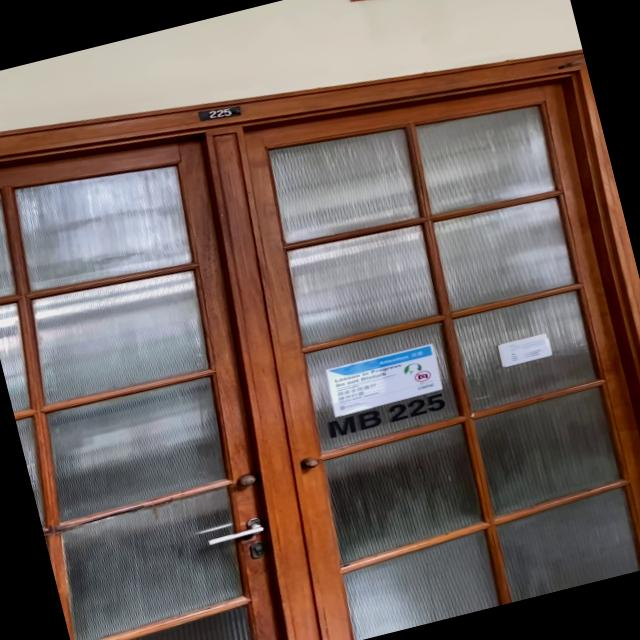room225: (194, 100, 244, 126)
room225Window: (326, 391, 452, 438)
